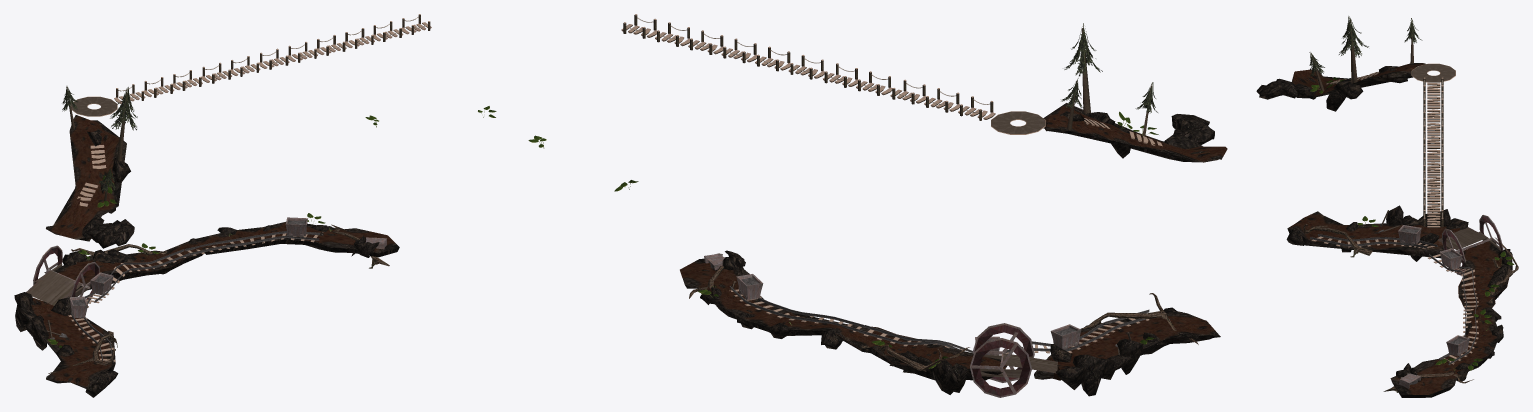
File: love-death-tower-bridge-art.glb
3 renders of one model, left to right at view 1: azimuth 30°, elevation 25°; view 2: azimuth 150°, elevation 25°; view 3: azimuth 270°, elevation 25°, orthographic. The views are drawn at different scales.
Parts seen in each view (by area): view 1: LoveDeath_Tower_Bridge_Art; view 2: LoveDeath_Tower_Bridge_Art; view 3: LoveDeath_Tower_Bridge_Art.
Boxes of the visible parts, bbox=[...] form: LoveDeath_Tower_Bridge_Art: bbox=[14, 14, 496, 397]; LoveDeath_Tower_Bridge_Art: bbox=[528, 14, 1227, 397]; LoveDeath_Tower_Bridge_Art: bbox=[1256, 16, 1518, 397].
Bounding box in the file's own units: 62.48 × 31.41 × 28.84.
5 materials, 5 textured.
